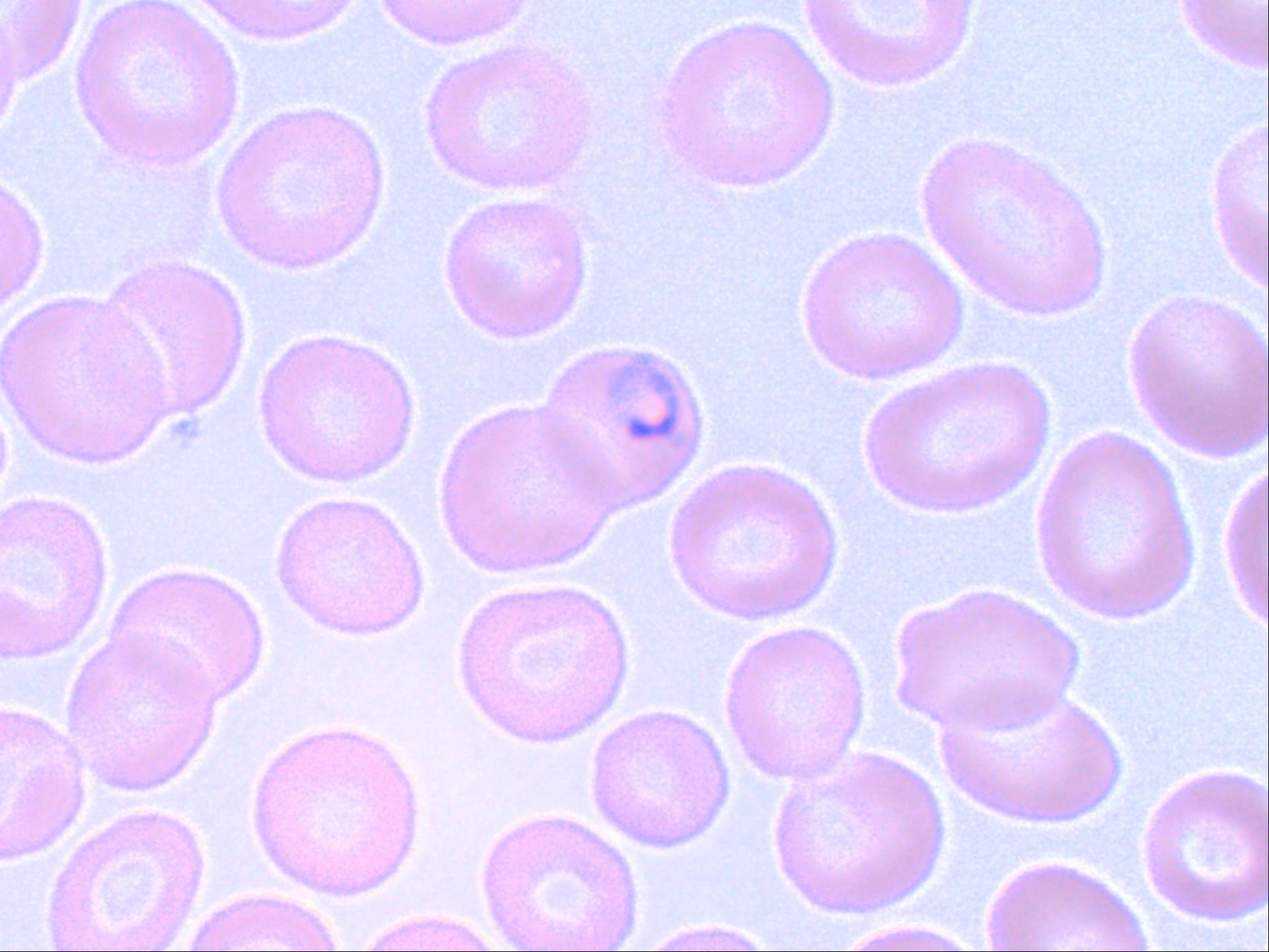Infected: (925, 137, 1103, 316), (1036, 431, 1197, 616), (444, 408, 619, 567), (865, 362, 1049, 510), (0, 298, 167, 461), (892, 588, 1079, 733), (668, 20, 834, 182), (74, 0, 236, 162), (780, 753, 943, 911), (940, 679, 1122, 819), (221, 108, 381, 265), (545, 347, 701, 507), (463, 587, 625, 738), (673, 466, 834, 616), (1129, 296, 1269, 461), (805, 232, 962, 374), (430, 47, 588, 185), (101, 263, 241, 413), (261, 341, 410, 476), (725, 630, 863, 775), (1145, 772, 1269, 923), (592, 712, 726, 847), (446, 202, 582, 335), (279, 502, 417, 633)
Uninfected: (254, 730, 416, 892), (68, 635, 211, 789), (48, 815, 201, 952), (484, 820, 634, 952), (116, 573, 262, 703), (0, 501, 102, 660), (0, 709, 82, 856)
